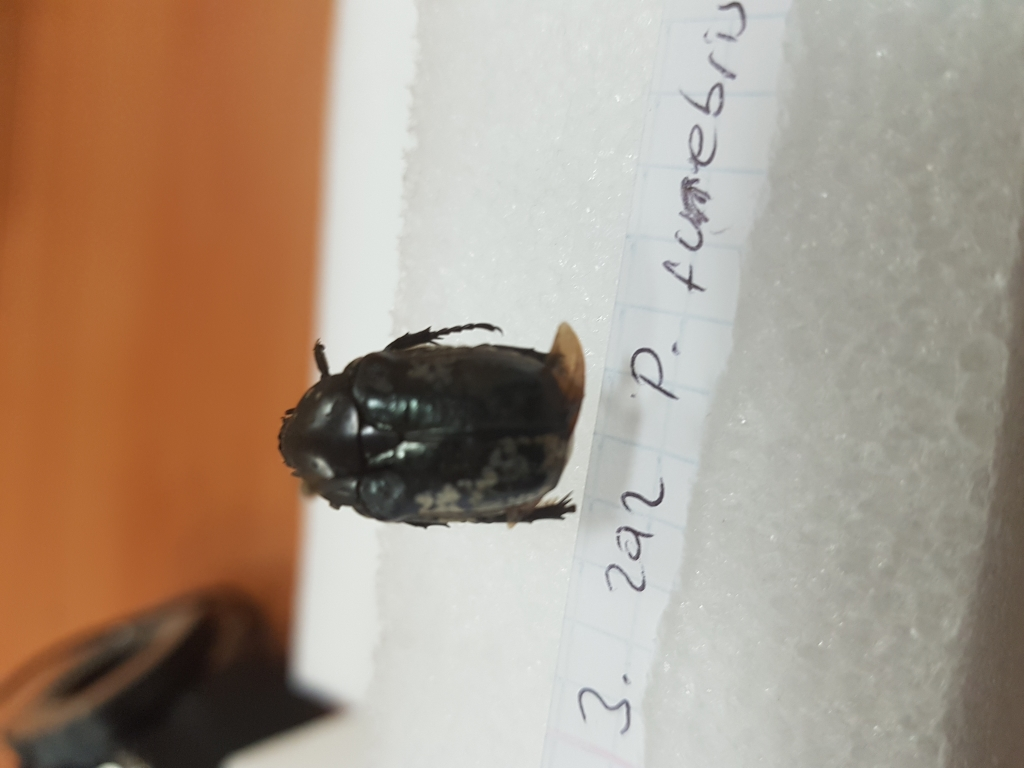Protaetia_funebris_funebris: (266, 300, 623, 544)
